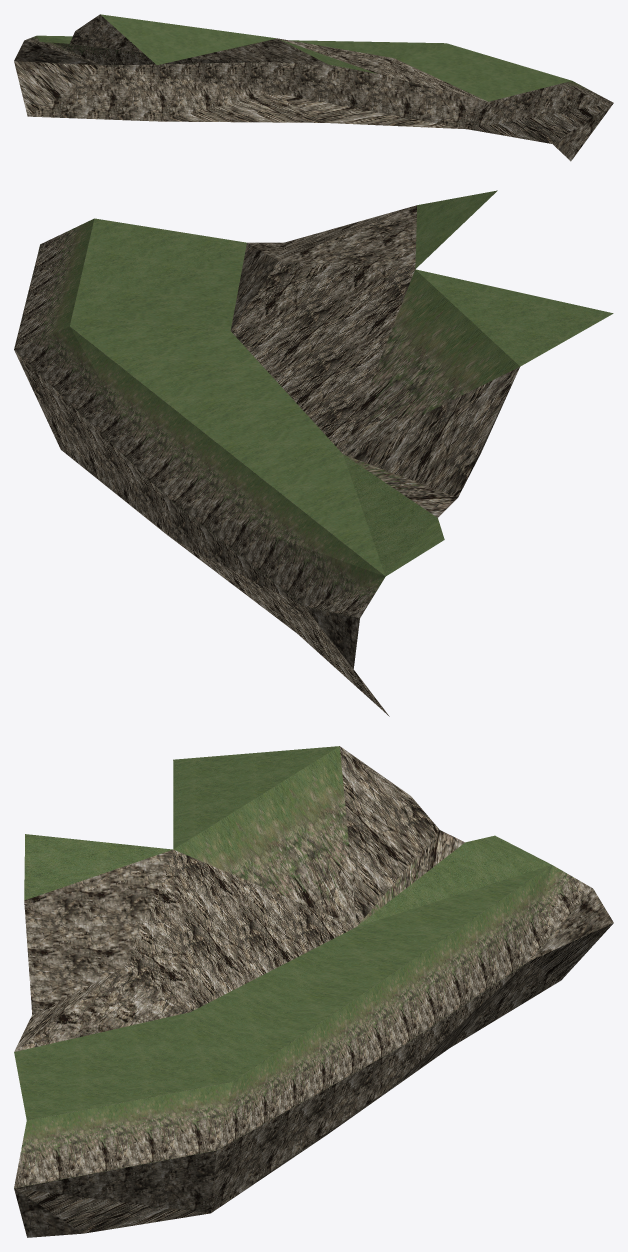
The model's file is LODa_carisle_mid_landmass_01_01.fbx.
3 views of the same model, one above another, from view 1: azimuth 30°, elevation 25°; view 2: azimuth 150°, elevation 25°; view 3: azimuth 270°, elevation 25° (orthographic). The views are drawn at different scales.
Parts seen in each view (by area): view 1: LODa_carisle_mid_landmass_01_01; view 2: LODa_carisle_mid_landmass_01_01; view 3: LODa_carisle_mid_landmass_01_01.
Part boxes in pixels (x1,y1,x2,y2): LODa_carisle_mid_landmass_01_01: [14, 14, 613, 161]; LODa_carisle_mid_landmass_01_01: [14, 190, 613, 716]; LODa_carisle_mid_landmass_01_01: [14, 746, 613, 1237].
Bounding box in the file's own units: 57.16 × 49.48 × 21.52.
